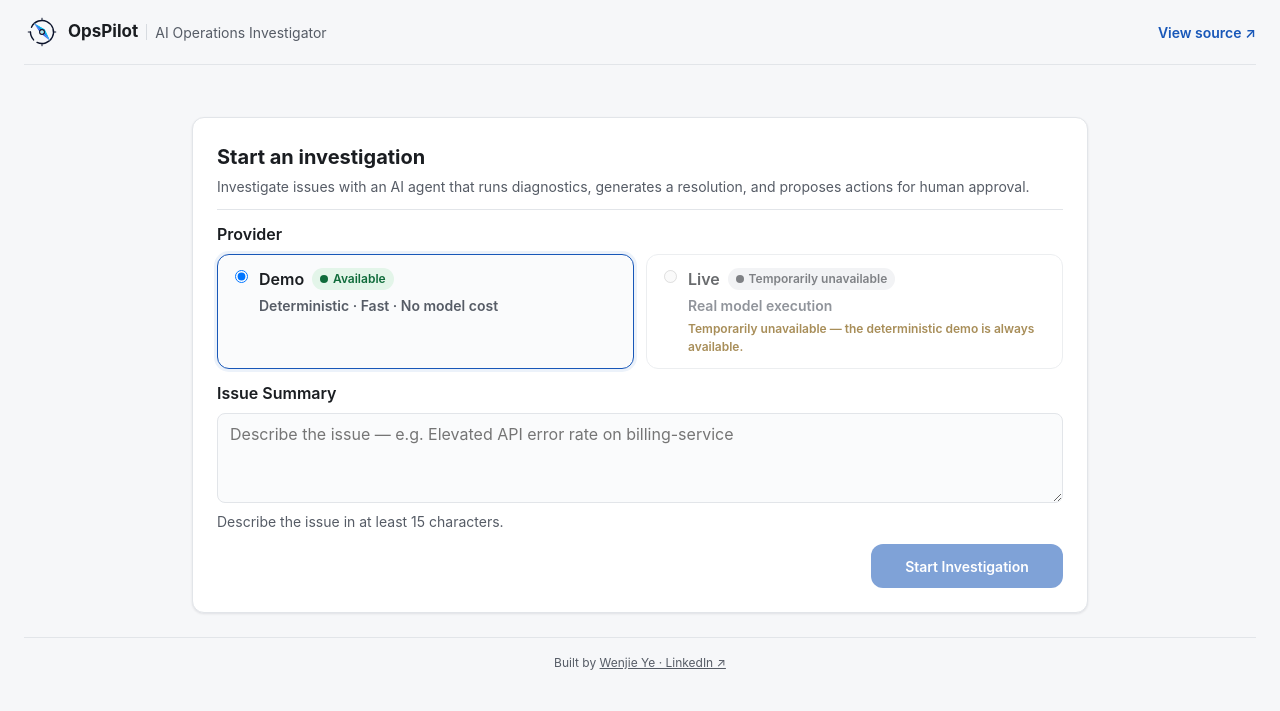
Data-driven reveal boundaries › shows only Progress while the run is unresolved — Agent activity, Report, Actions, and Approval are absent
In the text box labelled "Issue Summary": (640, 458) [217,413,1063,503], type "Elevated error rate"
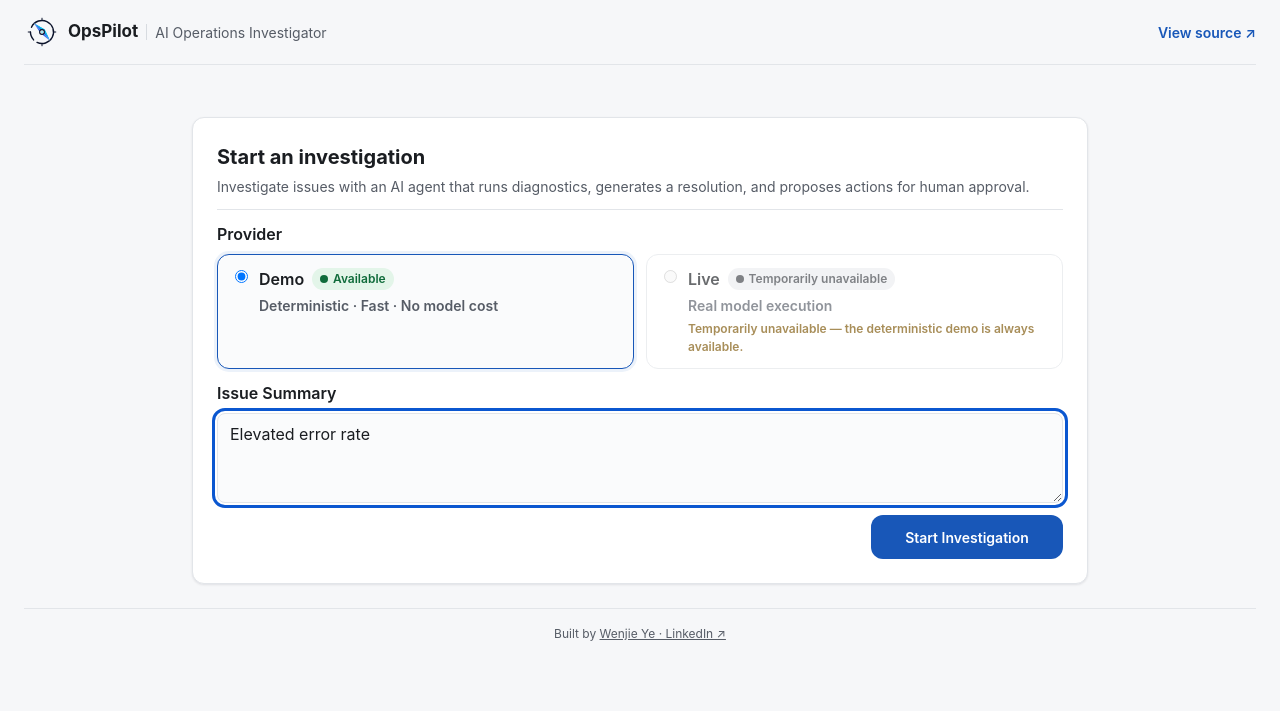
Click the button "Start Investigation": click(967, 537) [871,515,1063,559]
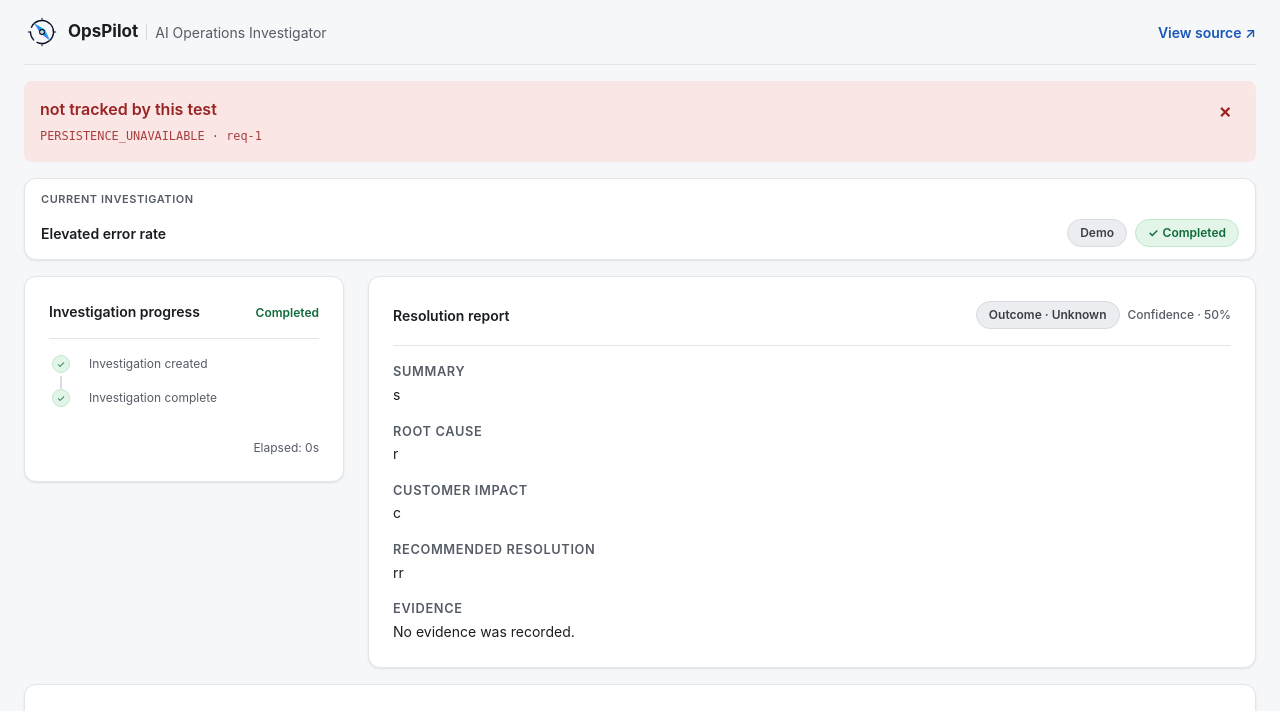
Check: the heading "Investigation progress" is shown, box [49,301,200,322]
Check: the text "Human approval" is gone
